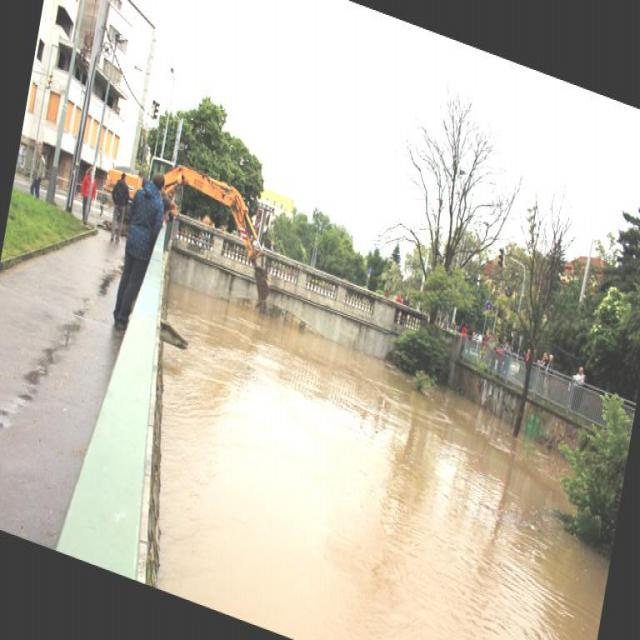flood: (113, 268, 630, 639)
